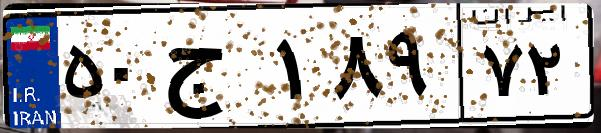0: (110, 28, 158, 98)
1: (270, 28, 330, 110)
2: (525, 38, 570, 115)
5: (57, 26, 110, 100)
7: (475, 38, 525, 113)
8: (330, 28, 385, 110)
9: (385, 28, 445, 110)
ج: (158, 20, 270, 120)
